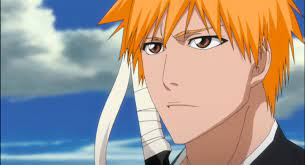Ichigo: (132, 1, 270, 143)
